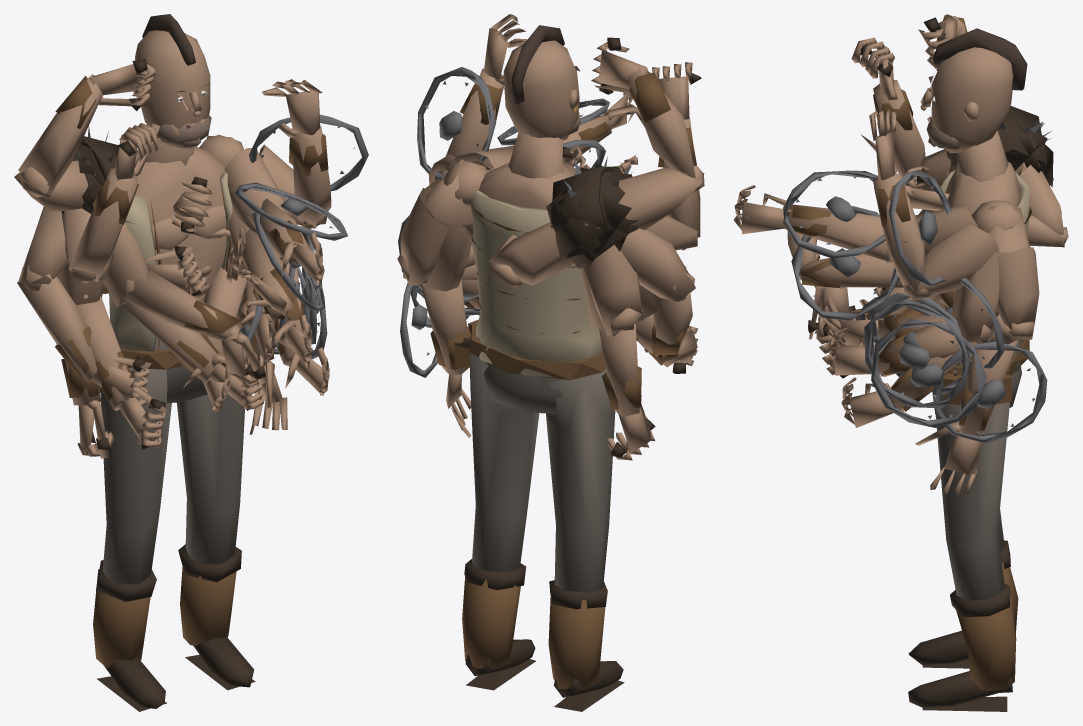
Rendered from human_chain.glb.
3 views of the same model, side by side, from view 1: azimuth 30°, elevation 25°; view 2: azimuth 150°, elevation 25°; view 3: azimuth 270°, elevation 25° (orthographic).
Visible parts, largest first — view 1: B_0d, R.raised_3d, R.staffR_5d, R.cast_6d, L.cast_15d, R.xbowR_8d, L.bowArm_12d, R.weapon_2d, L.xbowL_14d, R.twoR_7d, L.twoL_13d, R.rest_1d (+7 smaller); view 2: B_0d, R.raised_3d, R.staffR_5d, L.rest_10d, L.cast_15d, R.rest_1d, R.carry_9d, R.draw_4d, R.cast_6d, L.carry_17d, L.bowArm_12d, R.weapon_2d (+2 smaller); view 3: B_0d, L.cast_15d, L.shield_11d, L.bowArm_12d, L.rest_10d, L.weapon_18d, R.cast_6d, L.xbowL_14d, L.carry_17d, R.draw_4d, L.book_16d, R.raised_3d (+3 smaller).
Part boxes in pixels (x1=…): B_0d: x1=93, y1=14, x2=256, y2=711; R.raised_3d: x1=14, y1=58, x2=155, y2=212; R.staffR_5d: x1=17, y1=144, x2=151, y2=405; R.cast_6d: x1=61, y1=123, x2=161, y2=283; L.cast_15d: x1=249, y1=79, x2=368, y2=228; R.xbowR_8d: x1=78, y1=158, x2=267, y2=385; L.bowArm_12d: x1=224, y1=148, x2=347, y2=286; R.weapon_2d: x1=58, y1=156, x2=166, y2=449; L.xbowL_14d: x1=228, y1=206, x2=324, y2=320; R.twoR_7d: x1=82, y1=182, x2=264, y2=410; L.twoL_13d: x1=183, y1=261, x2=263, y2=411; R.rest_1d: x1=61, y1=173, x2=114, y2=458; B_0d: x1=425, y1=25, x2=624, y2=711; R.raised_3d: x1=551, y1=37, x2=704, y2=237; R.staffR_5d: x1=550, y1=164, x2=695, y2=357; L.rest_10d: x1=400, y1=199, x2=471, y2=437; L.cast_15d: x1=417, y1=14, x2=527, y2=189; R.rest_1d: x1=549, y1=199, x2=655, y2=460; R.carry_9d: x1=546, y1=173, x2=643, y2=336; R.draw_4d: x1=488, y1=145, x2=590, y2=287; R.cast_6d: x1=575, y1=62, x2=701, y2=251; L.carry_17d: x1=397, y1=188, x2=478, y2=302; L.bowArm_12d: x1=449, y1=92, x2=644, y2=170; R.weapon_2d: x1=571, y1=173, x2=698, y2=373; B_0d: x1=908, y1=28, x2=1031, y2=711; L.cast_15d: x1=860, y1=108, x2=1011, y2=301; L.shield_11d: x1=827, y1=252, x2=1008, y2=408; L.bowArm_12d: x1=733, y1=170, x2=978, y2=262; L.rest_10d: x1=915, y1=332, x2=1047, y2=494; L.weapon_18d: x1=841, y1=289, x2=986, y2=427; R.cast_6d: x1=851, y1=37, x2=1004, y2=191; L.xbowL_14d: x1=787, y1=206, x2=903, y2=320; L.carry_17d: x1=917, y1=247, x2=1039, y2=368; R.draw_4d: x1=904, y1=119, x2=1068, y2=247; L.book_16d: x1=822, y1=293, x2=970, y2=394; R.raised_3d: x1=918, y1=14, x2=1046, y2=173.
Size of the model in its own units: 1.05 by 2.09 by 0.9673.
